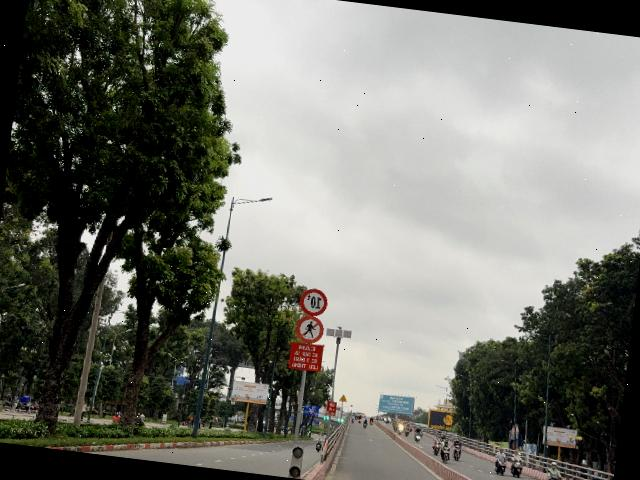cam-nguoi-di-bo: (294, 314, 325, 345)
han-che-trong-luong-xe: (298, 287, 329, 318)
